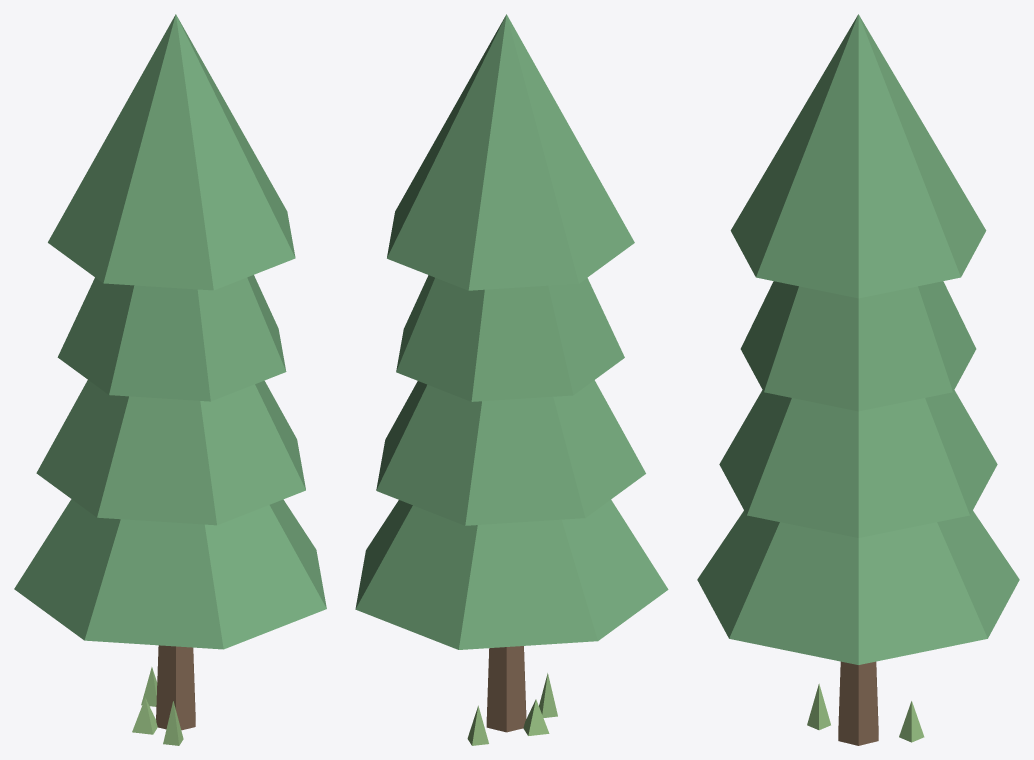
Rendered from pine-tree.glb.
The picture shows the model from 3 angles, left to right: view 1: azimuth 30°, elevation 25°; view 2: azimuth 150°, elevation 25°; view 3: azimuth 270°, elevation 25°; orthographic projection.
Visible parts, largest first — view 1: pine-tree; view 2: pine-tree; view 3: pine-tree.
Boxes of the visible parts, x1=… form: pine-tree: x1=14, y1=14, x2=326, y2=745; pine-tree: x1=355, y1=14, x2=668, y2=745; pine-tree: x1=697, y1=14, x2=1019, y2=745.
Size of the model in its own units: 3.24 by 8.2 by 3.32.
